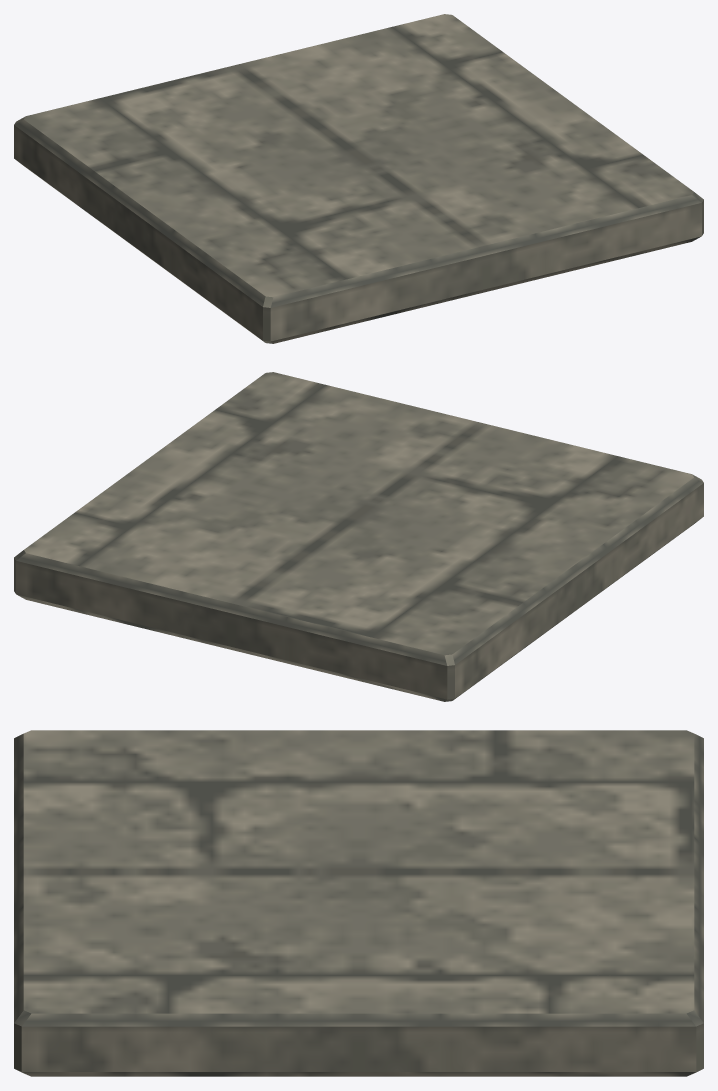
The model's file is FloorSlab.obj.
3 views of the same model, one above another, from view 1: azimuth 30°, elevation 25°; view 2: azimuth 150°, elevation 25°; view 3: azimuth 270°, elevation 25° (orthographic). The views are drawn at different scales.
Visible parts, largest first — view 1: FloorSlab_Stone; view 2: FloorSlab_Stone; view 3: FloorSlab_Stone.
Part boxes in pixels (box(x1,y1,x2,y2)): FloorSlab_Stone: box(14, 14, 703, 343); FloorSlab_Stone: box(14, 372, 703, 701); FloorSlab_Stone: box(14, 730, 703, 1076).
Size of the model in its own units: 0.495 by 0.05 by 0.495.
Materials: 1 (1 with a texture image).
